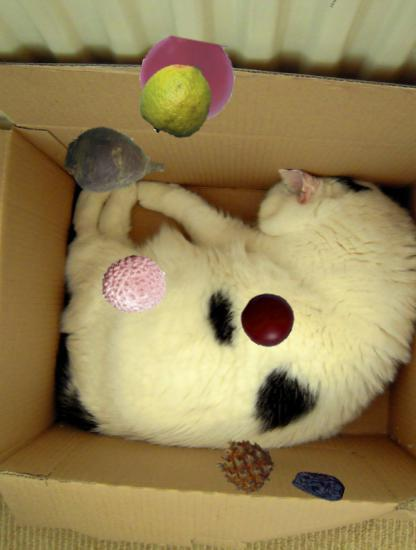Beetroot: (63, 111, 169, 217)
Cherry: (241, 293, 294, 346)
Dates: (292, 458, 346, 512)
Limes: (140, 62, 216, 138)
Lychee: (101, 252, 168, 319)
Pineapple: (217, 437, 275, 495)
Redcurrant: (139, 37, 234, 132)
